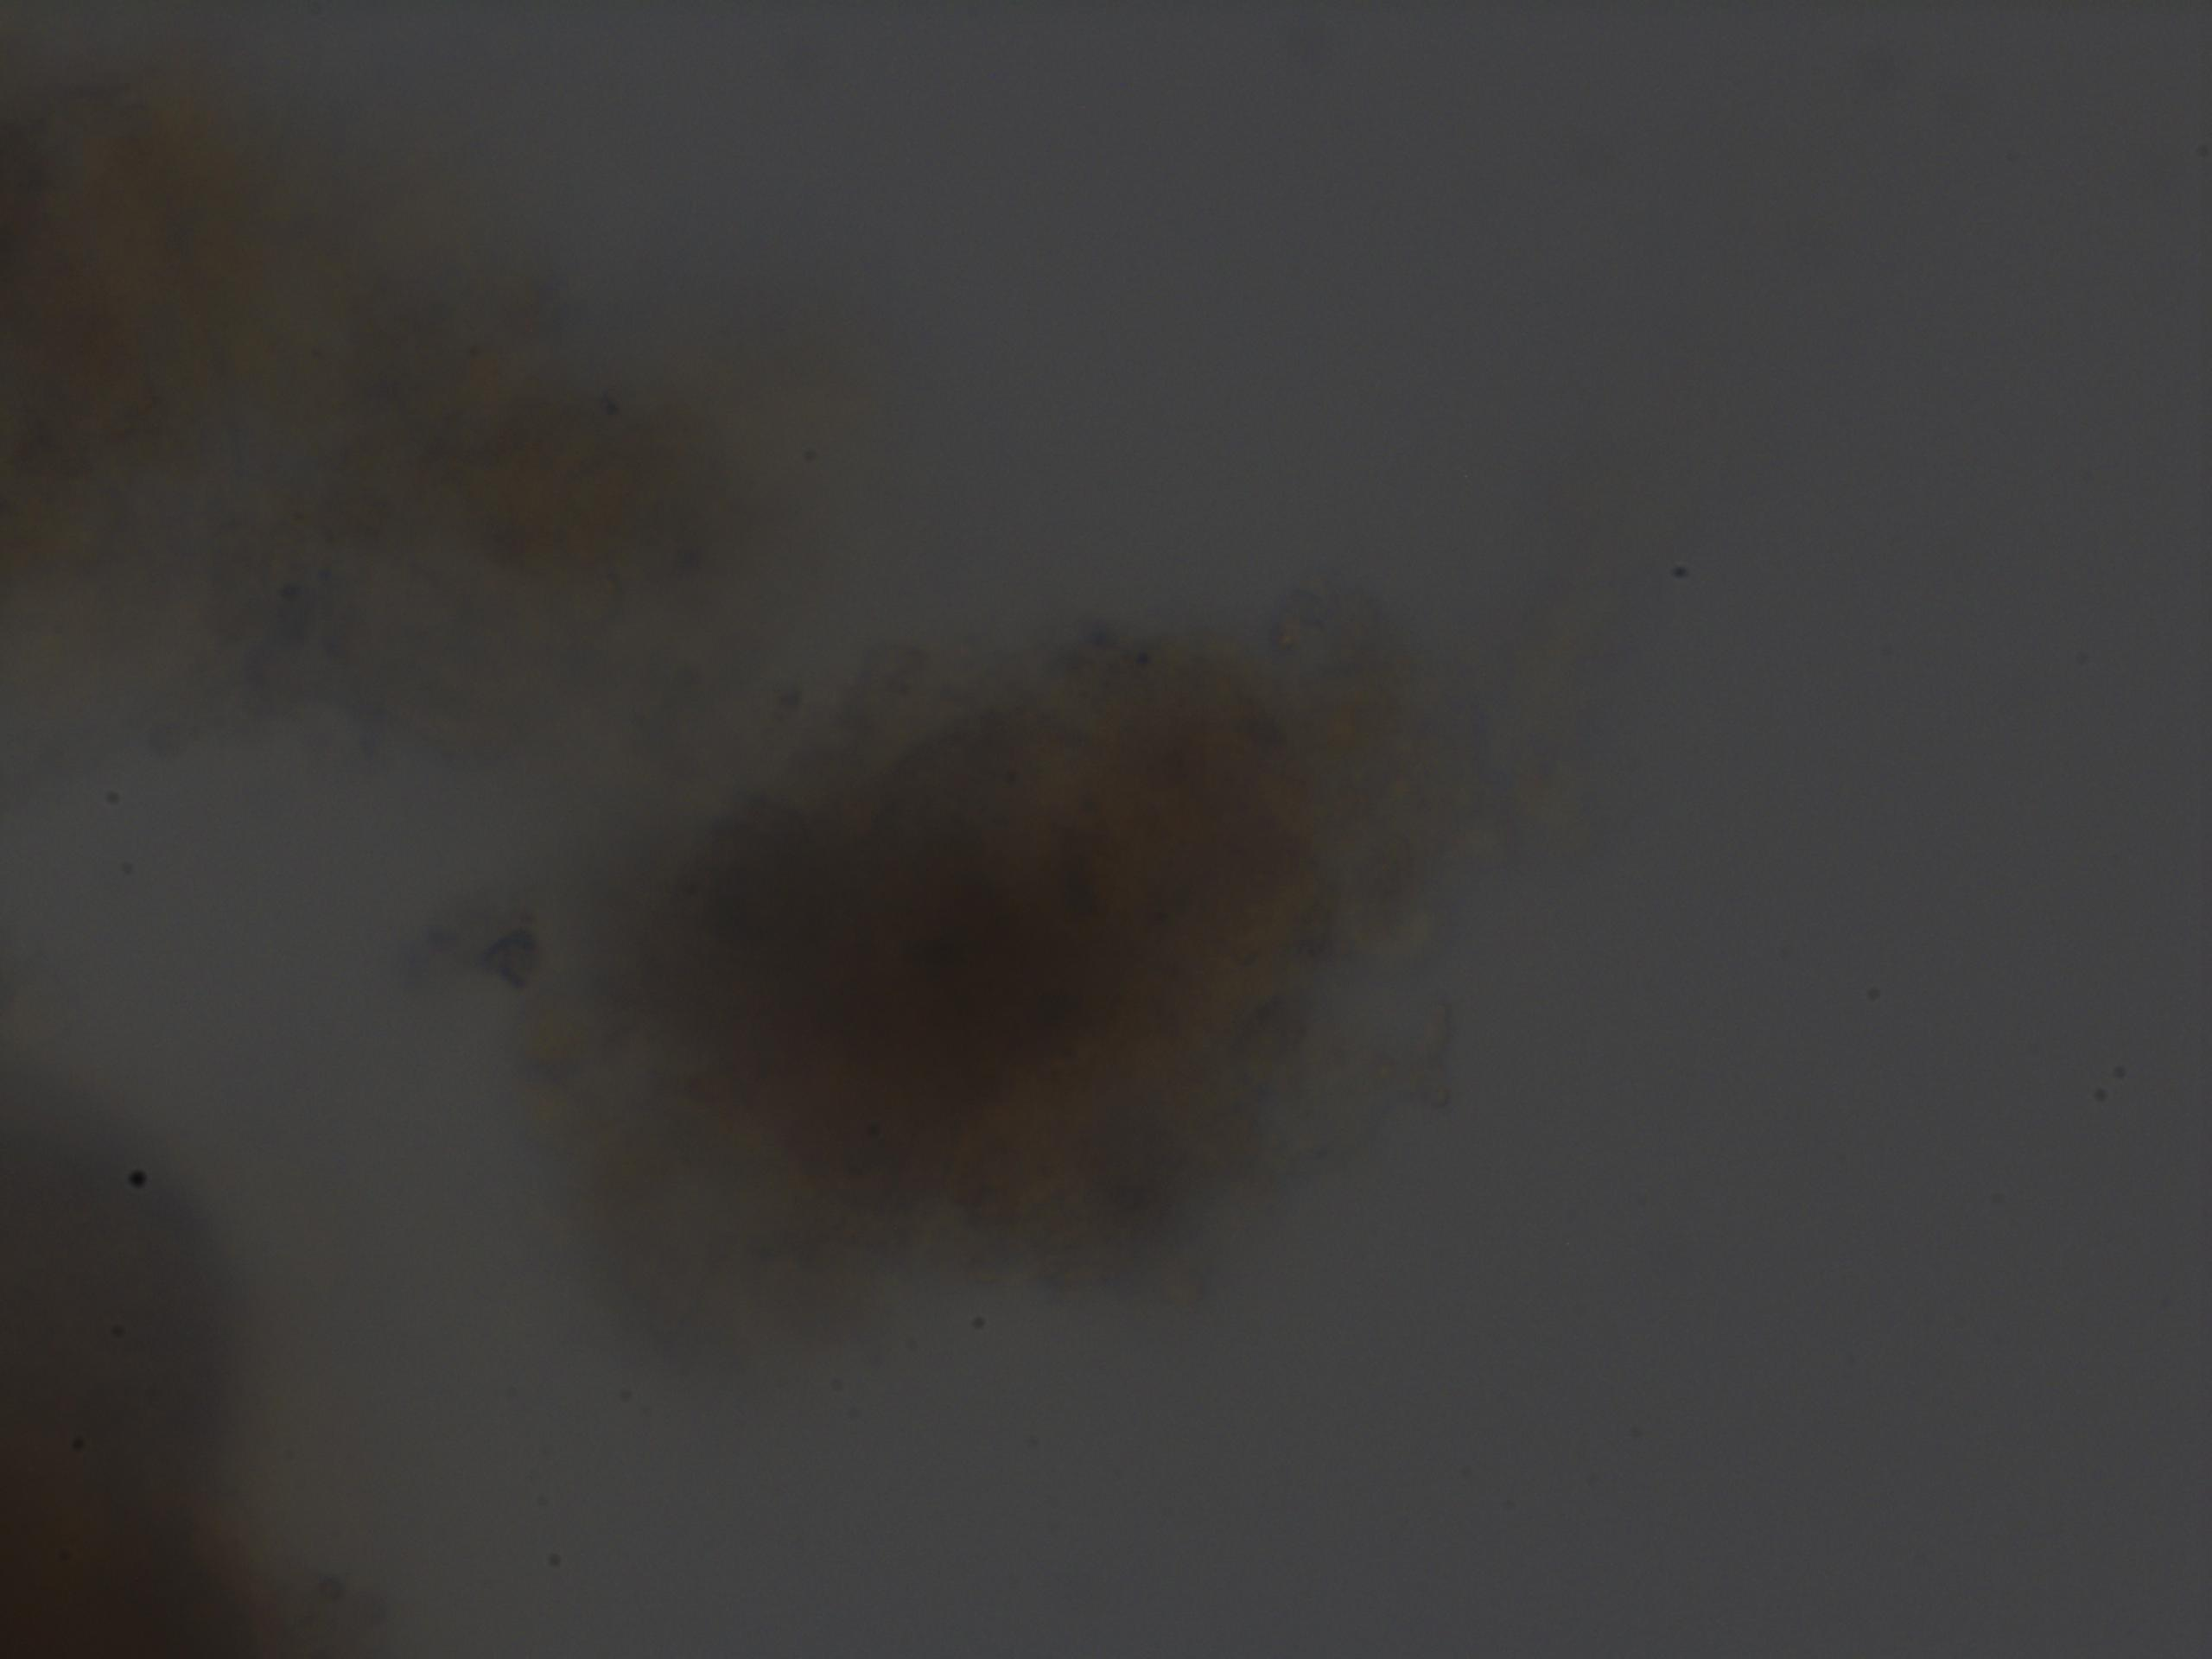spherical_floc: (568, 613, 1390, 1361)
